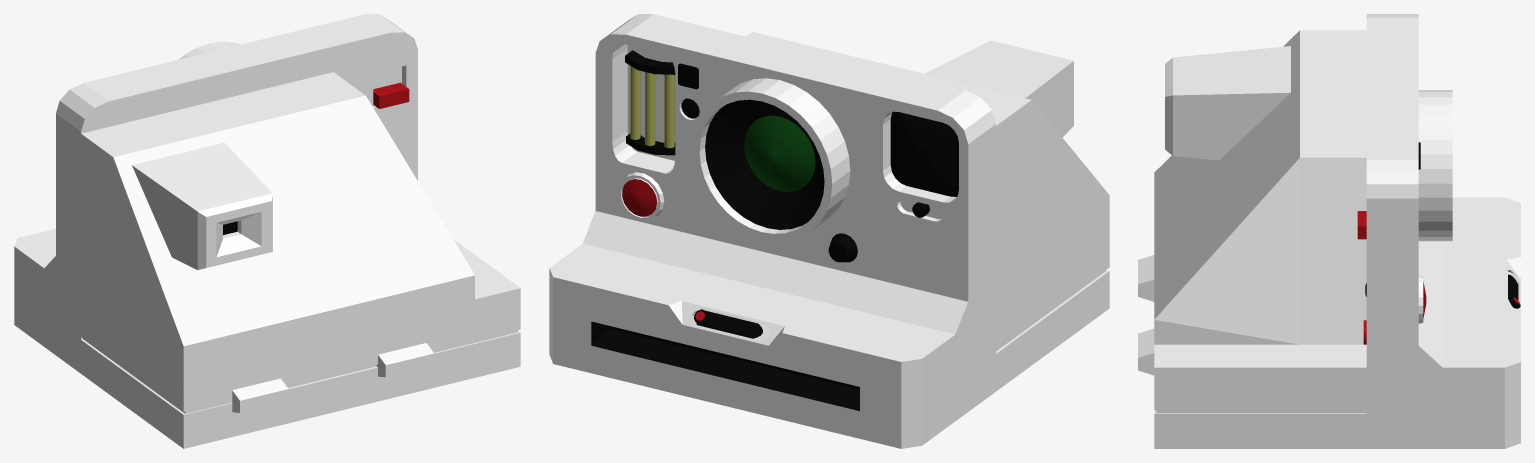
File: Camera.fbx
3 renders of one model, left to right at view 1: azimuth 30°, elevation 25°; view 2: azimuth 150°, elevation 25°; view 3: azimuth 270°, elevation 25°, orthographic. The views are drawn at different scales.
Parts seen in each view (by area): view 1: Cube.065; view 2: Cube.065; view 3: Cube.065.
Part boxes in pixels (left/top/right/bottom): Cube.065: left=14, top=14, right=520, bottom=448; Cube.065: left=549, top=14, right=1109, bottom=448; Cube.065: left=1138, top=14, right=1520, bottom=448.
Size of the model in its own units: 20.66 by 15.56 by 19.63.
